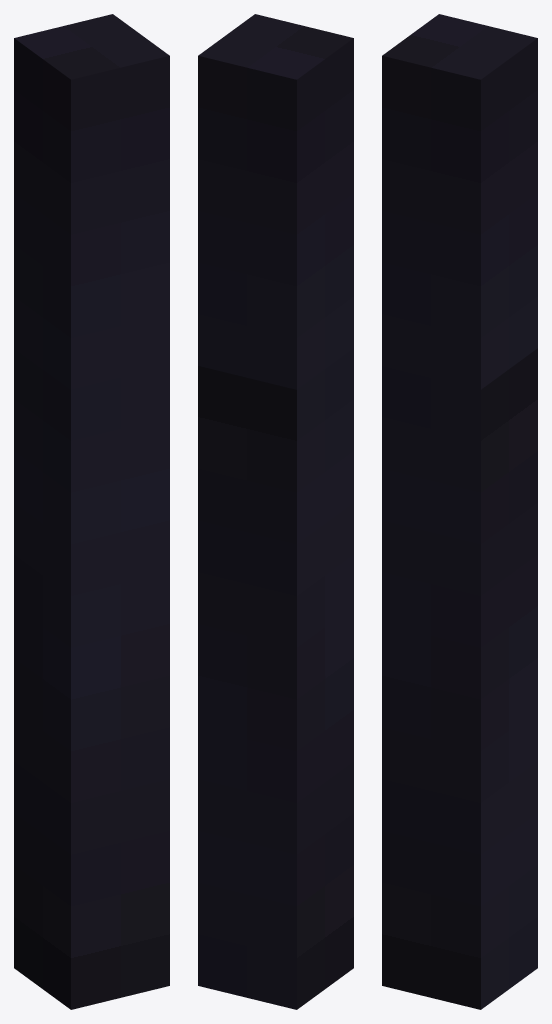
Rendered from shaft_overlay_sheared.obj.
3 renders of one model, left to right at view 1: azimuth 30°, elevation 25°; view 2: azimuth 150°, elevation 25°; view 3: azimuth 330°, elevation 25°, orthographic.
Bounding box in the file's own units: 0.125 × 1.12 × 0.125.
